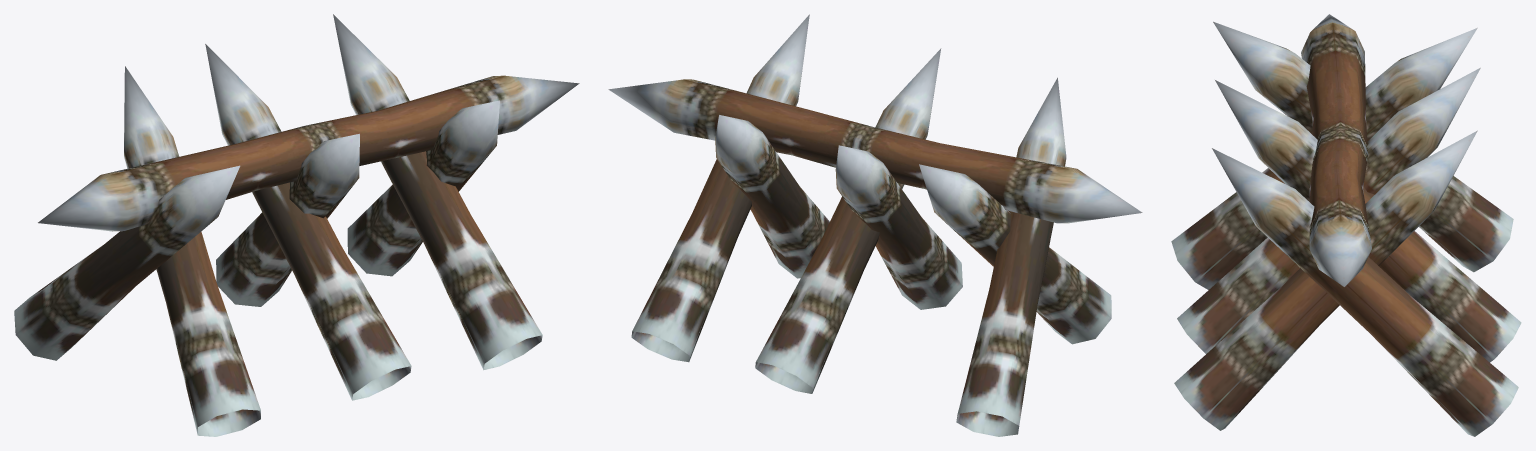
The model's file is h5_xuezhalan_a.FBX.
The picture shows the model from 3 angles, left to right: view 1: azimuth 30°, elevation 25°; view 2: azimuth 150°, elevation 25°; view 3: azimuth 270°, elevation 25°; orthographic projection. The views are drawn at different scales.
Visible parts, largest first — view 1: h5_xuezhalan_a; view 2: h5_xuezhalan_a; view 3: h5_xuezhalan_a.
Part boxes in pixels (<box>): h5_xuezhalan_a: <box>14,14,579,436</box>; h5_xuezhalan_a: <box>608,14,1142,436</box>; h5_xuezhalan_a: <box>1171,14,1521,436</box>.
Size of the model in its own units: 2.1 by 0.9943 by 1.14.
